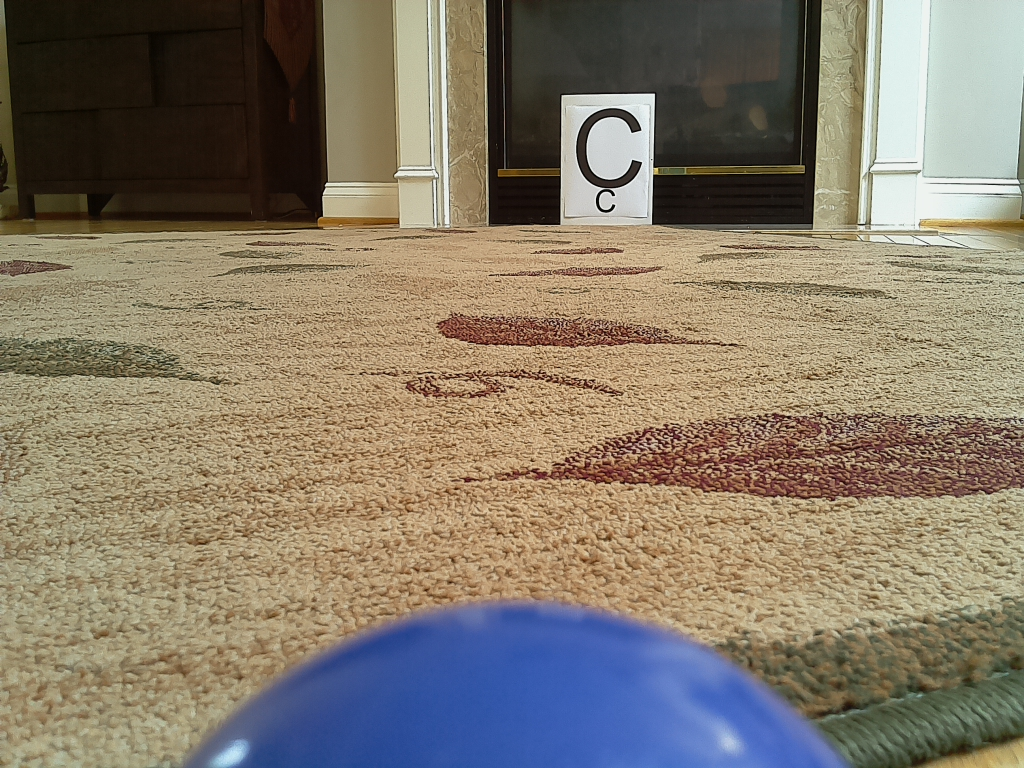letter: (575, 107, 641, 187)
